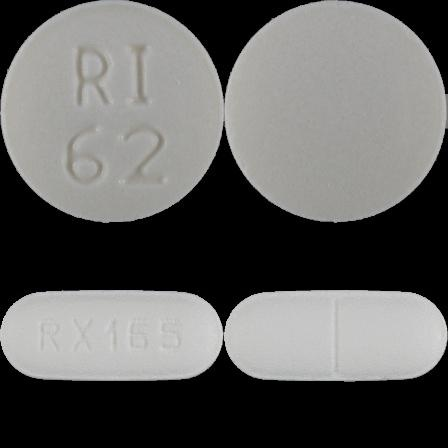63304-098: (0, 0, 224, 224)
